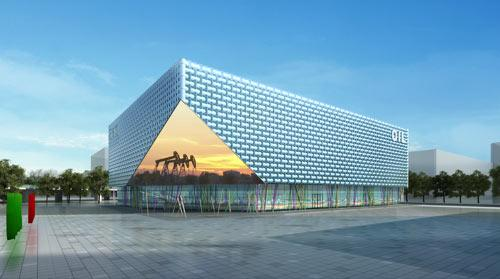buildings: (96, 61, 432, 208)
